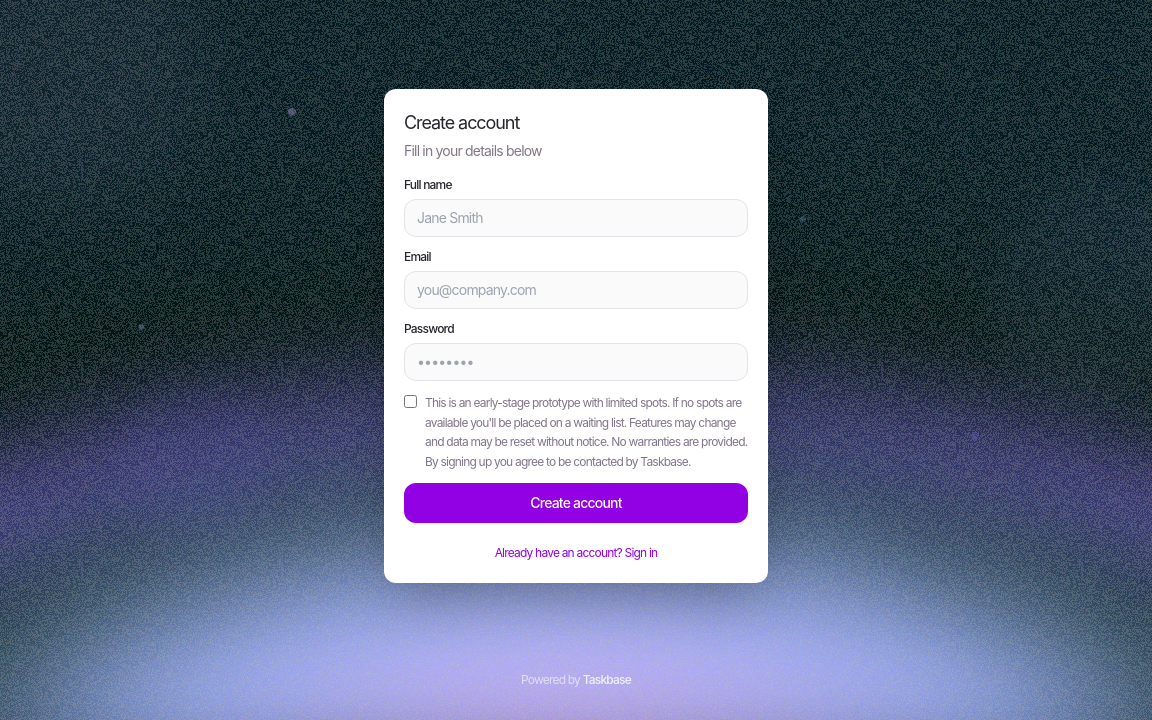
Test case: Signup disclaimer › shows error when submitting signup without accepting disclaimer
Type "Jane" into the field labelled "Full name" at (576, 218), box 404,199 -> 748,237
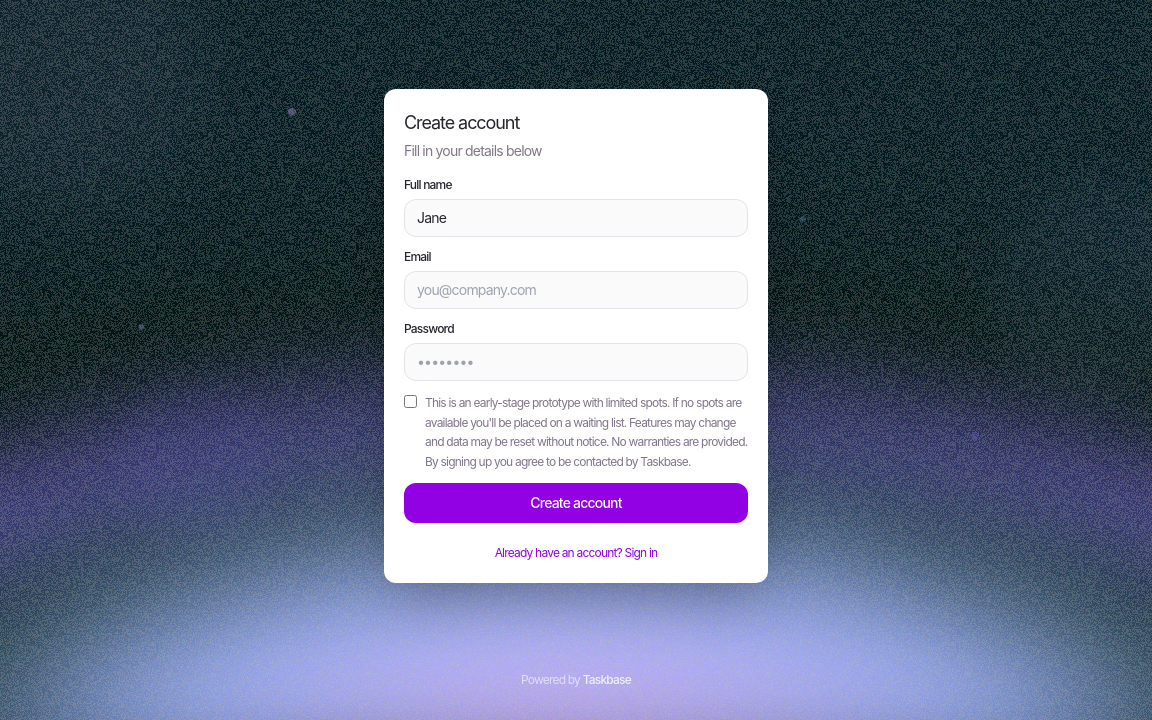
Type "jane@example.com" into the field labelled "Email" at (576, 290), box 404,271 -> 748,309
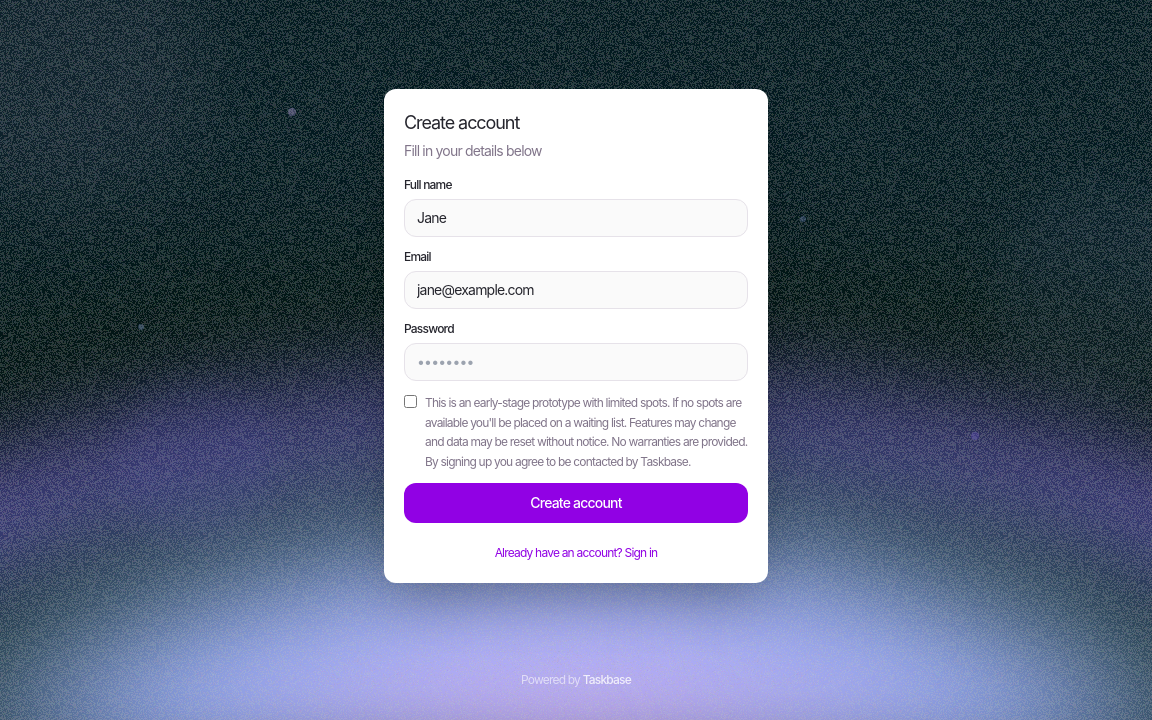
Type "password123" into the password field labelled "Password" at (576, 362), box 404,343 -> 748,381
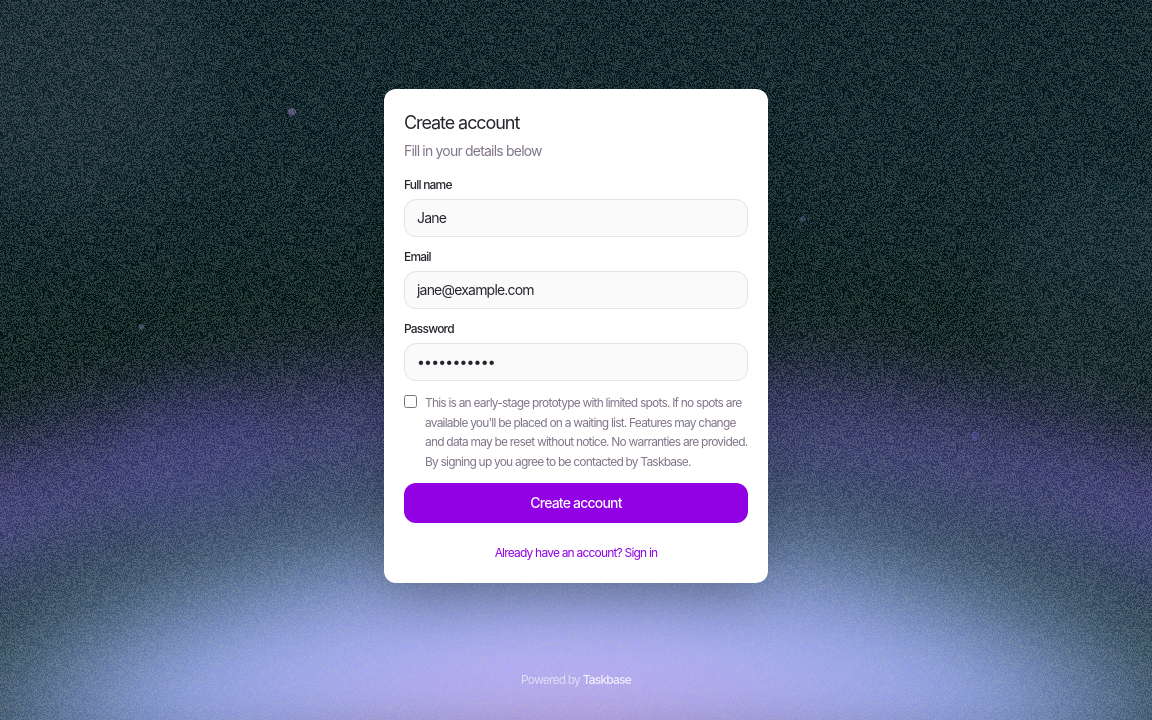
Click the button "Create account" at (576, 503), box 404,483 -> 748,523
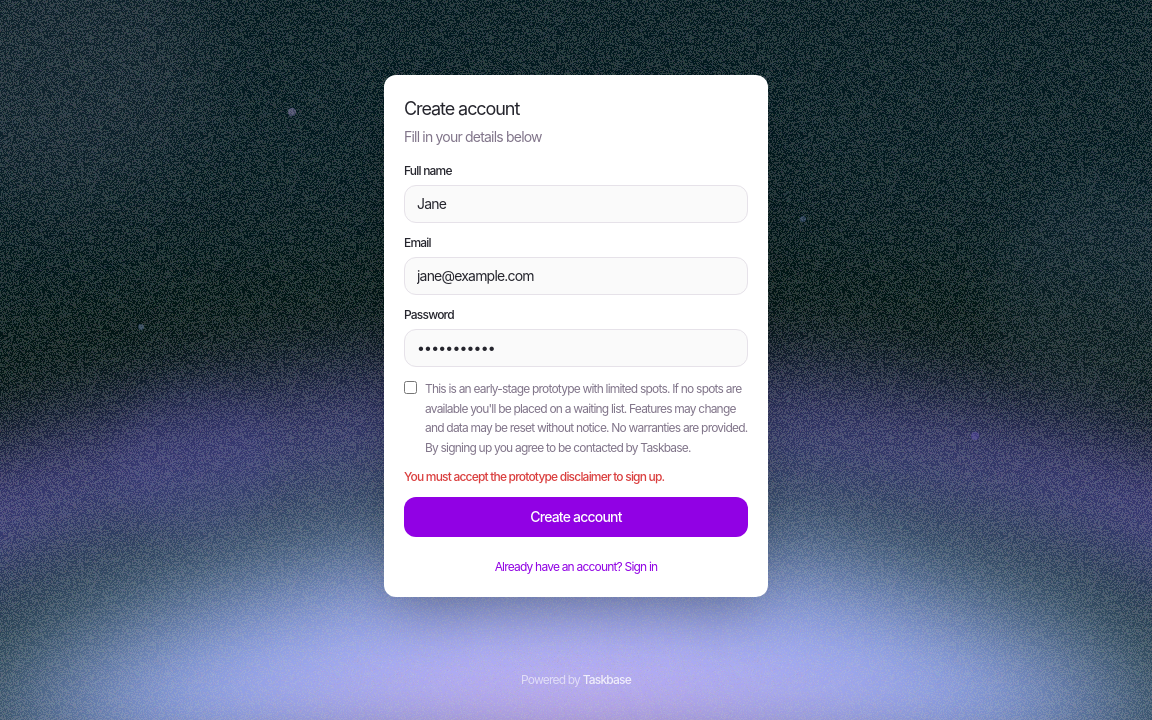
Expected: the text "You must accept the prototype disclaimer to sign up." is shown, 404,469 -> 664,484
